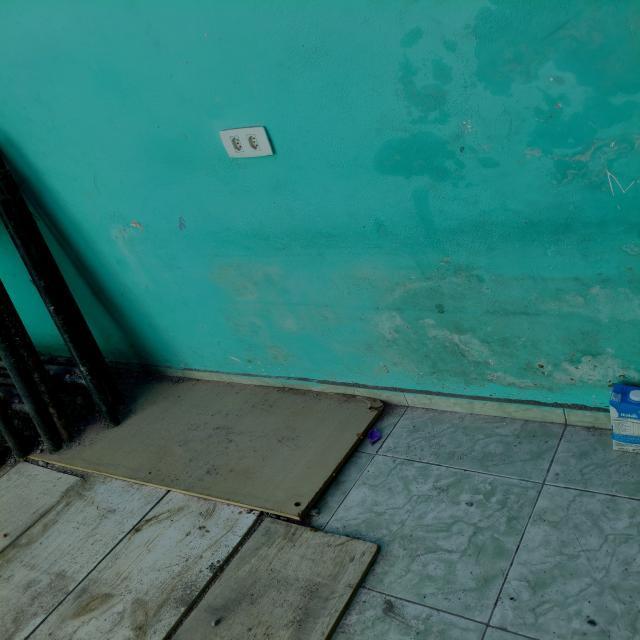Caixa de Leite: (607, 382, 640, 454)
